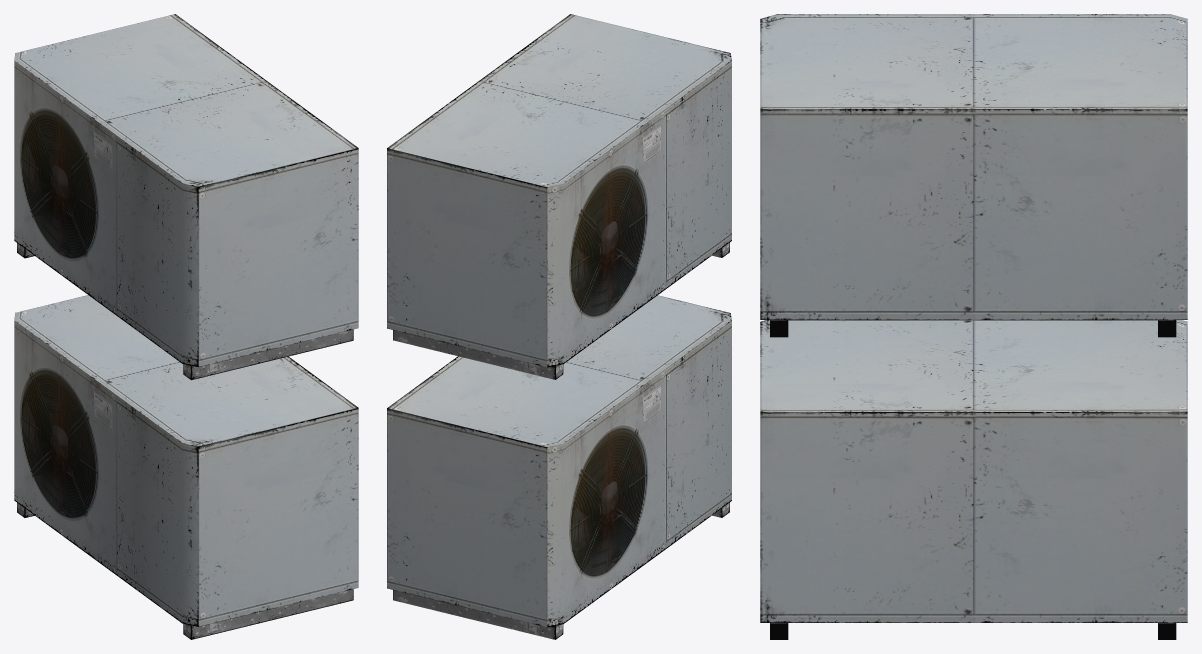
File: DoubleAirVent.glb
The picture shows the model from 3 angles, left to right: view 1: azimuth 30°, elevation 25°; view 2: azimuth 150°, elevation 25°; view 3: azimuth 270°, elevation 25°; orthographic projection. The views are drawn at different scales.
Parts seen in each view (by area): view 1: SP_TNR_Aircon_3_WT_Aircon_0; view 2: SP_TNR_Aircon_3_WT_Aircon_0; view 3: SP_TNR_Aircon_3_WT_Aircon_0.
Boxes of the visible parts, box(x1,y1,x2,y2) form: SP_TNR_Aircon_3_WT_Aircon_0: box(14, 14, 358, 639); SP_TNR_Aircon_3_WT_Aircon_0: box(387, 14, 731, 639); SP_TNR_Aircon_3_WT_Aircon_0: box(760, 14, 1187, 639).
Size of the model in its own units: 0.4841 by 1.25 by 0.91.
Materials: 1 (1 with a texture image).
